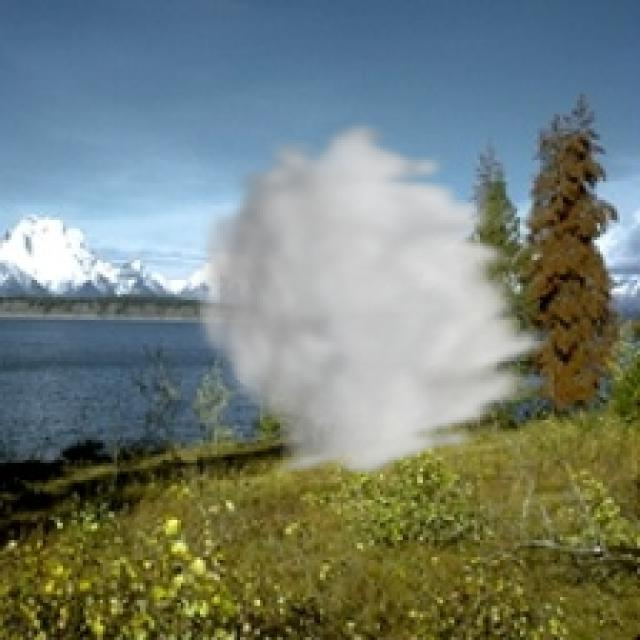smoke: (188, 117, 563, 480)
